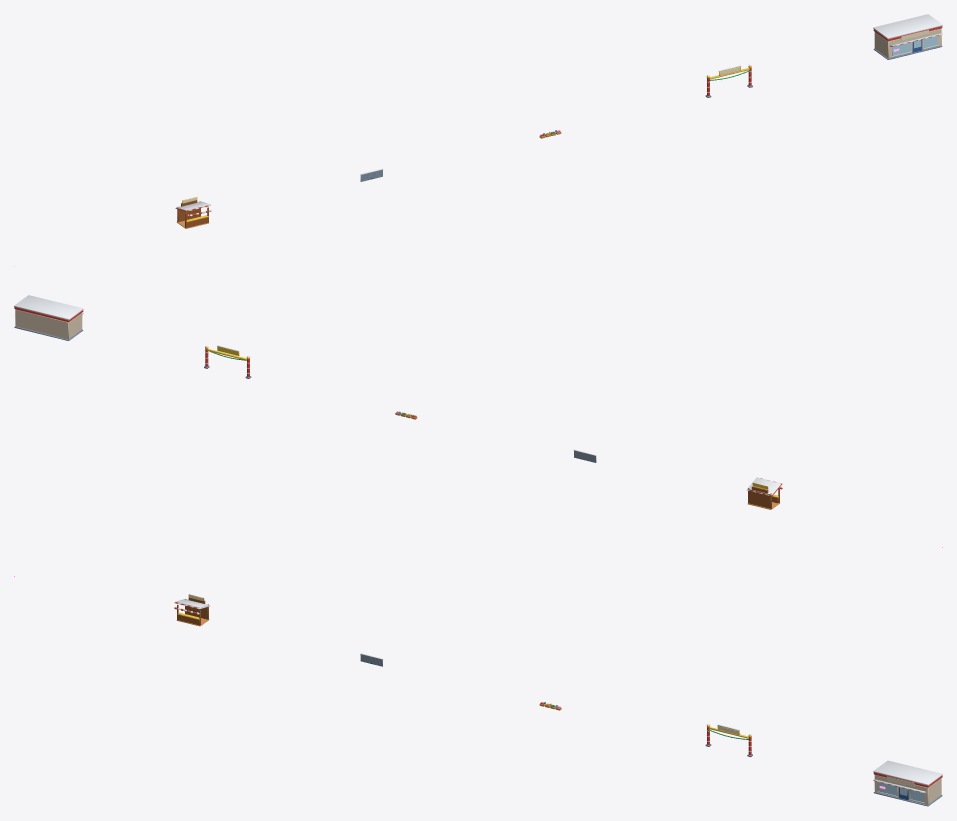
Rendered from CT_Market.fbx.
3 renders of one model, top to bottom at view 1: azimuth 30°, elevation 25°; view 2: azimuth 150°, elevation 25°; view 3: azimuth 330°, elevation 25°, orthographic.
Visible parts, largest first — view 1: ShopFront__Snow__F6FAFFSP, ShopFront__Walls__F3E2C8SP; view 2: ShopFront__Walls__F3E2C8SP, ShopFront__Snow__F6FAFFSP; view 3: ShopFront__Snow__F6FAFFSP, ShopFront__Walls__F3E2C8SP.
Part boxes in pixels (x1,y1,x2,y2): ShopFront__Snow__F6FAFFSP: (873,14,942,46); ShopFront__Walls__F3E2C8SP: (874,28,941,58); ShopFront__Walls__F3E2C8SP: (15,309,82,339); ShopFront__Snow__F6FAFFSP: (14,295,83,320); ShopFront__Snow__F6FAFFSP: (873,760,942,792); ShopFront__Walls__F3E2C8SP: (874,775,941,804).
Size of the model in its own units: 464 by 11.85 by 15.06.
